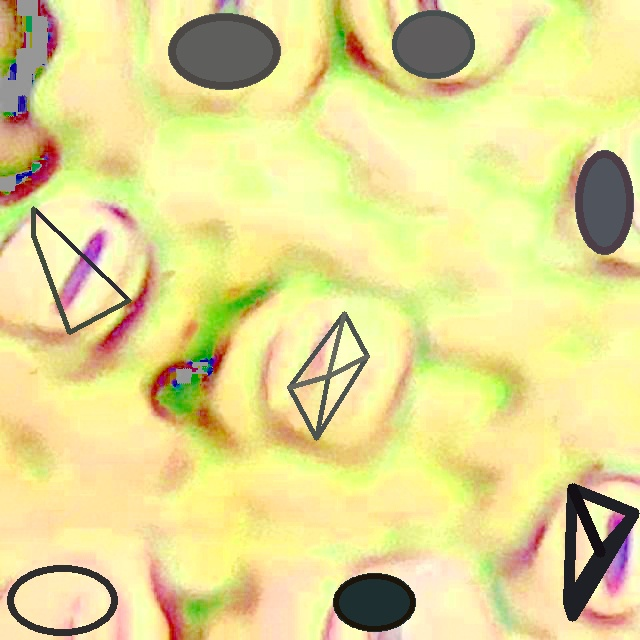close: (287, 311, 369, 440), (5, 565, 118, 636), (575, 150, 634, 254)
open: (31, 206, 131, 334), (563, 483, 638, 620), (167, 13, 280, 89), (392, 9, 474, 78), (333, 573, 416, 630)
